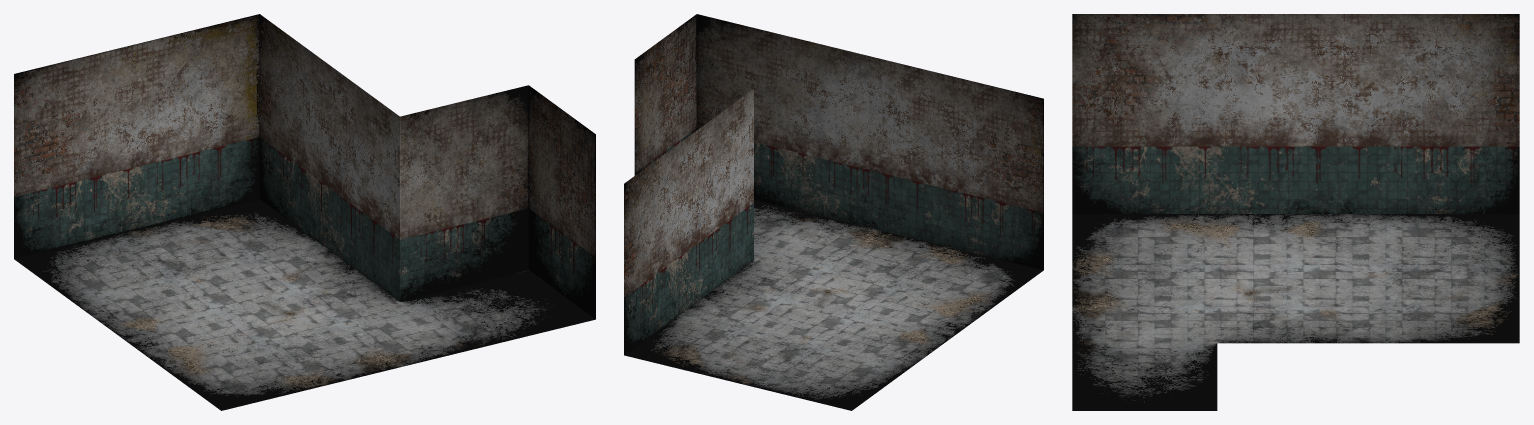
File: bathroom.glb
3 views of the same model, side by side, from view 1: azimuth 30°, elevation 25°; view 2: azimuth 150°, elevation 25°; view 3: azimuth 270°, elevation 25° (orthographic). The views are drawn at different scales.
Parts seen in each view (by area): view 1: Cube; view 2: Cube; view 3: Cube.
Boxes of the visible parts, left/top/right/bottom form: Cube: left=14, top=14, right=595, bottom=410; Cube: left=624, top=14, right=1043, bottom=410; Cube: left=1072, top=14, right=1519, bottom=410.
Size of the model in its own units: 19.17 by 9.06 by 18.38.
Materials: 3 (3 with a texture image).
